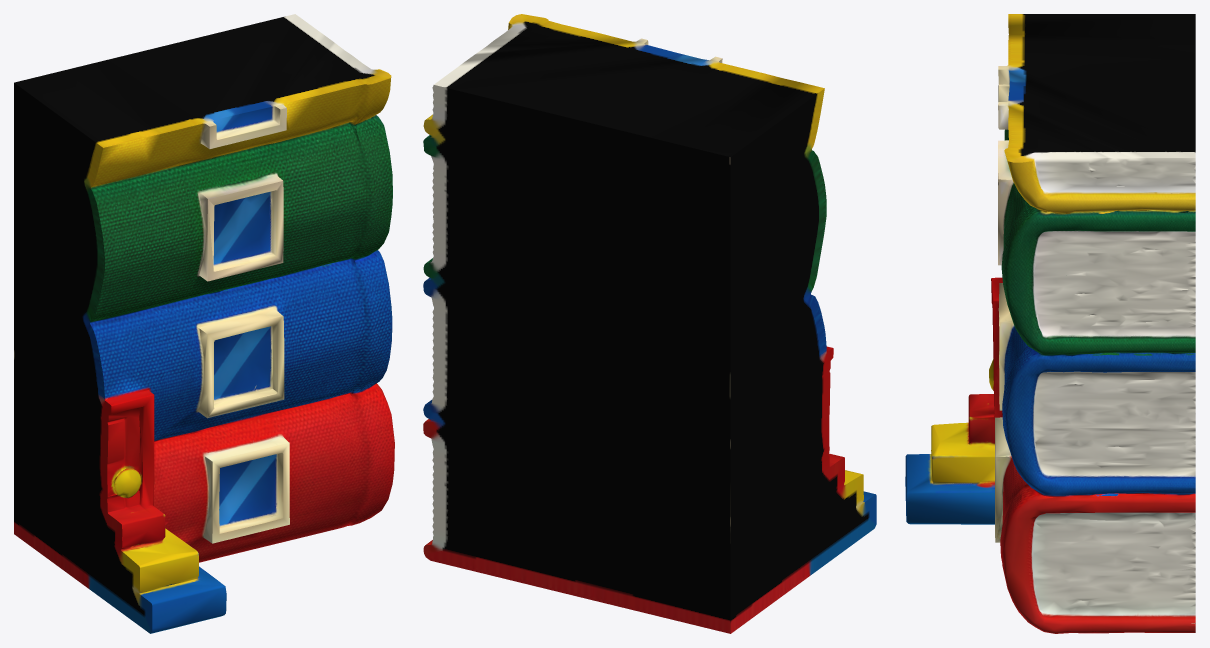
The model's file is 2-ground-floor-front-right.fbx.
3 views of the same model, side by side, from view 1: azimuth 30°, elevation 25°; view 2: azimuth 150°, elevation 25°; view 3: azimuth 270°, elevation 25° (orthographic). The views are drawn at different scales.
Parts seen in each view (by area): view 1: ground-floor-front-right; view 2: ground-floor-front-right; view 3: ground-floor-front-right.
Part boxes in pixels (x1=…): ground-floor-front-right: x1=14, y1=14, x2=394, y2=633; ground-floor-front-right: x1=423, y1=14, x2=876, y2=633; ground-floor-front-right: x1=905, y1=14, x2=1195, y2=633.
Bounding box in the file's own units: 5040 × 7448 × 4136.
Materials: 1 (1 with a texture image).
